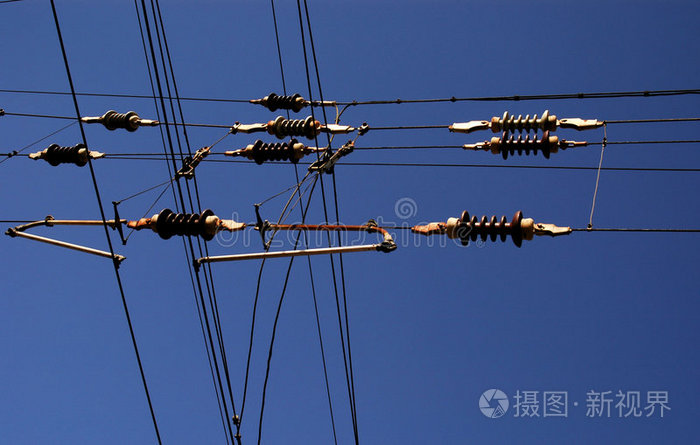insulator: (466, 211, 513, 244), (165, 208, 201, 240), (505, 132, 546, 157), (506, 111, 544, 134), (260, 141, 291, 163), (52, 144, 75, 168), (281, 116, 306, 137), (274, 93, 298, 111), (108, 110, 128, 130)
